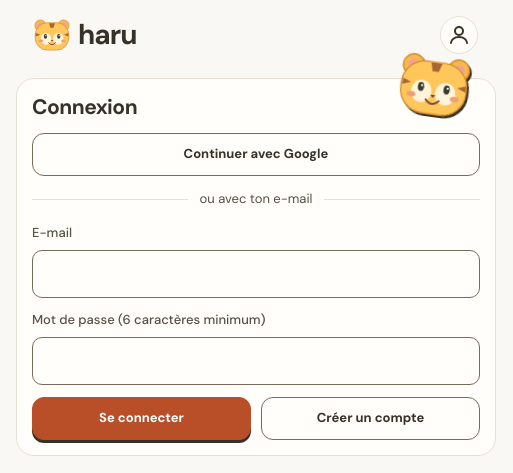
Test: authentication and account lifecycle › lets a guest open the settings page from the user button and return to the login form
This screenshot has width=513, height=473.
Check: the heading "Connexion" is shown, box [32,93,137,121]
Check: the switch labelled "Mode sombre" is not shown
Click the button named "Réglages".
click(459, 35)  # box [440,16,478,54]
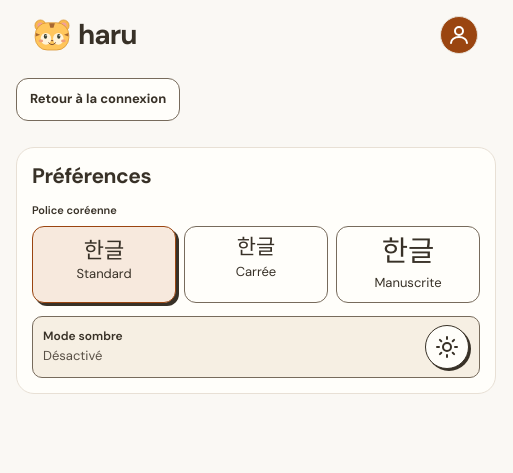
Check: the switch named "Mode sombre" is shown, box [425,325,469,369]
Click the button "Retour à la connexion".
click(98, 100)  # box [16,78,180,121]
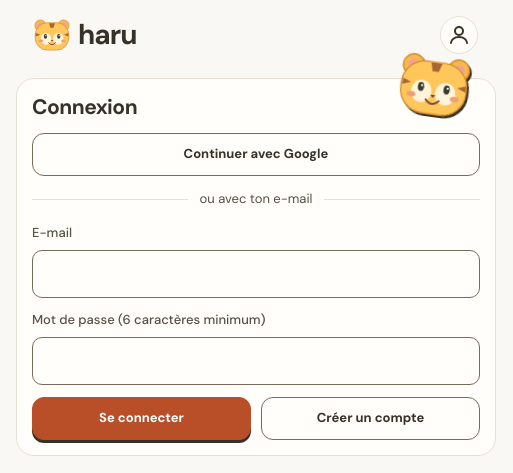
Check: the heading "Connexion" is shown, box [32,93,137,121]
